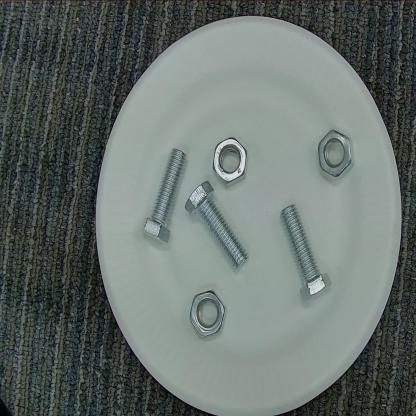FOD: (272, 201, 336, 309), (184, 182, 252, 272), (140, 138, 188, 249), (185, 285, 230, 348), (208, 129, 256, 188), (314, 129, 359, 188)
